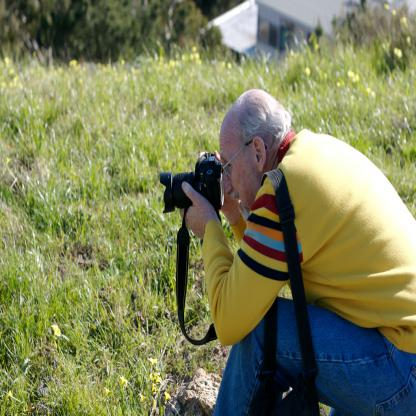Camera: (159, 155, 229, 233)
